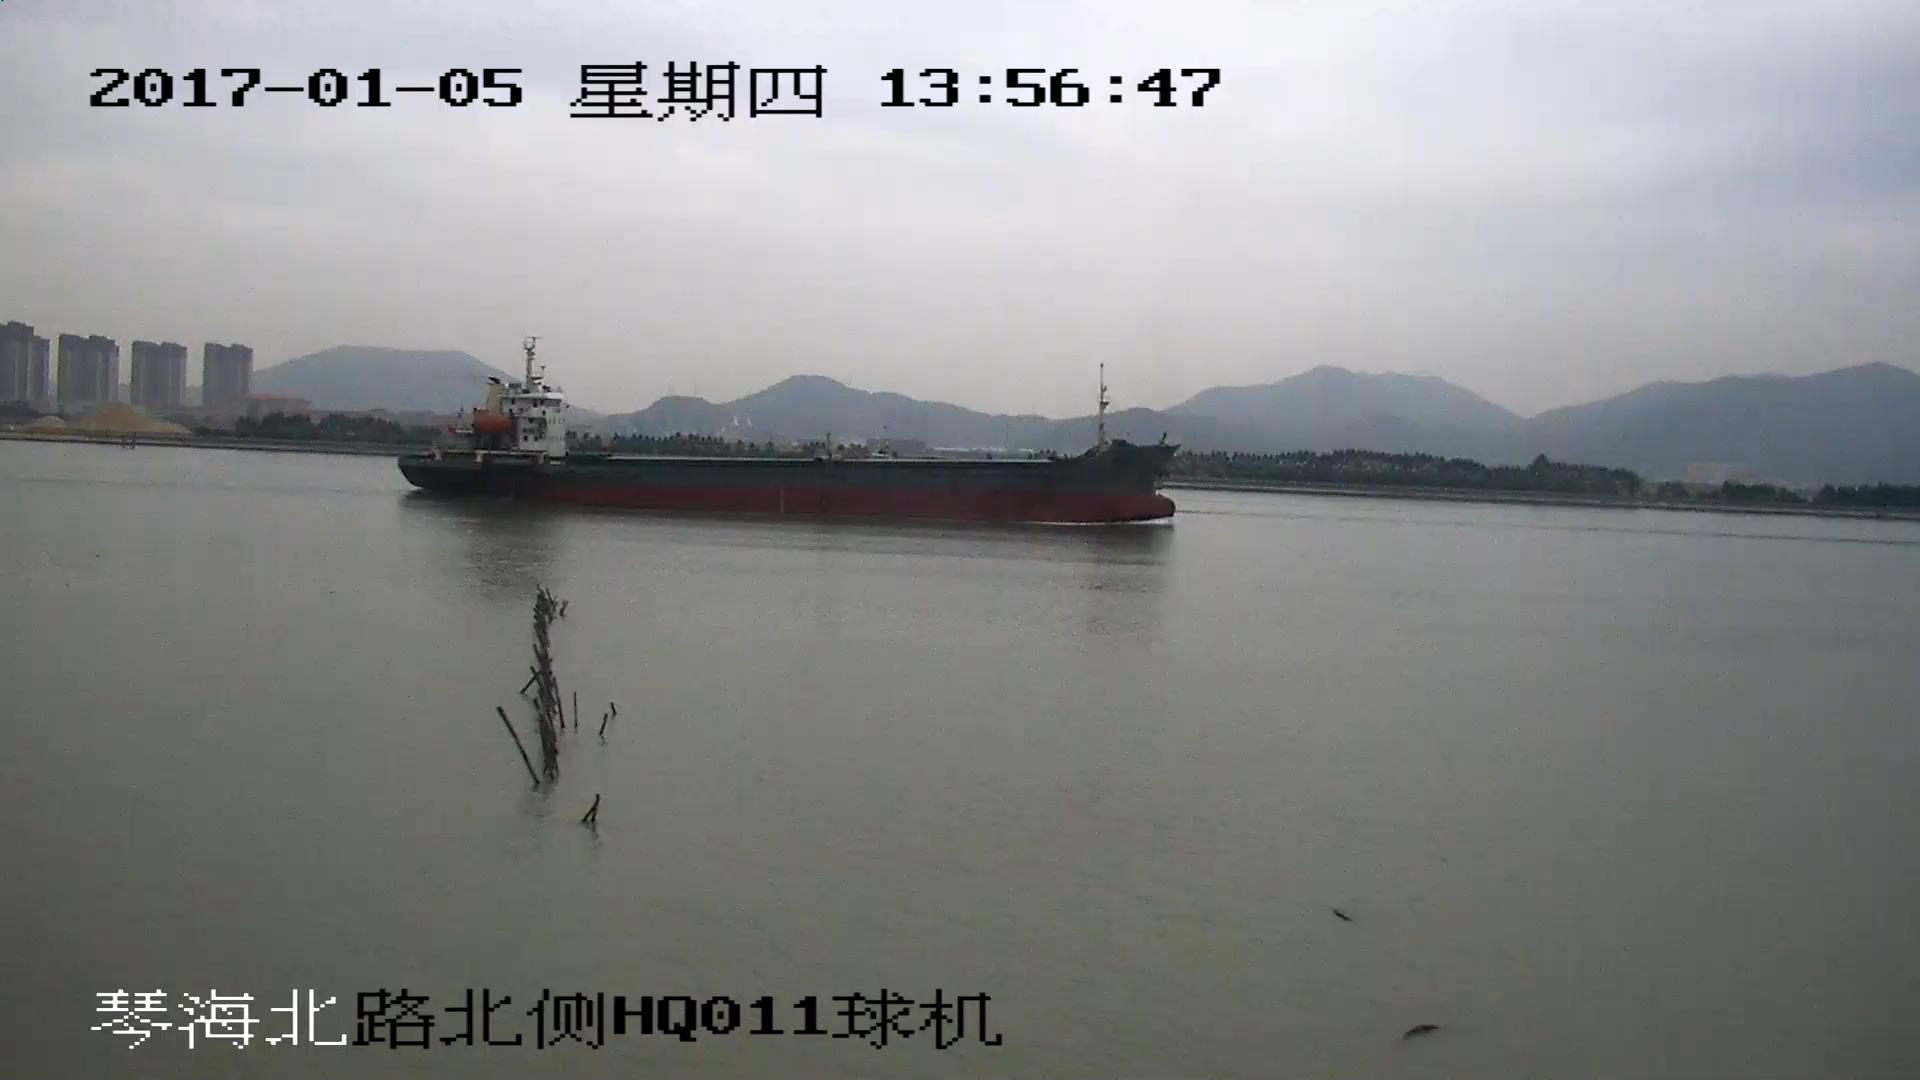general cargo ship: (396, 335, 1174, 524)
